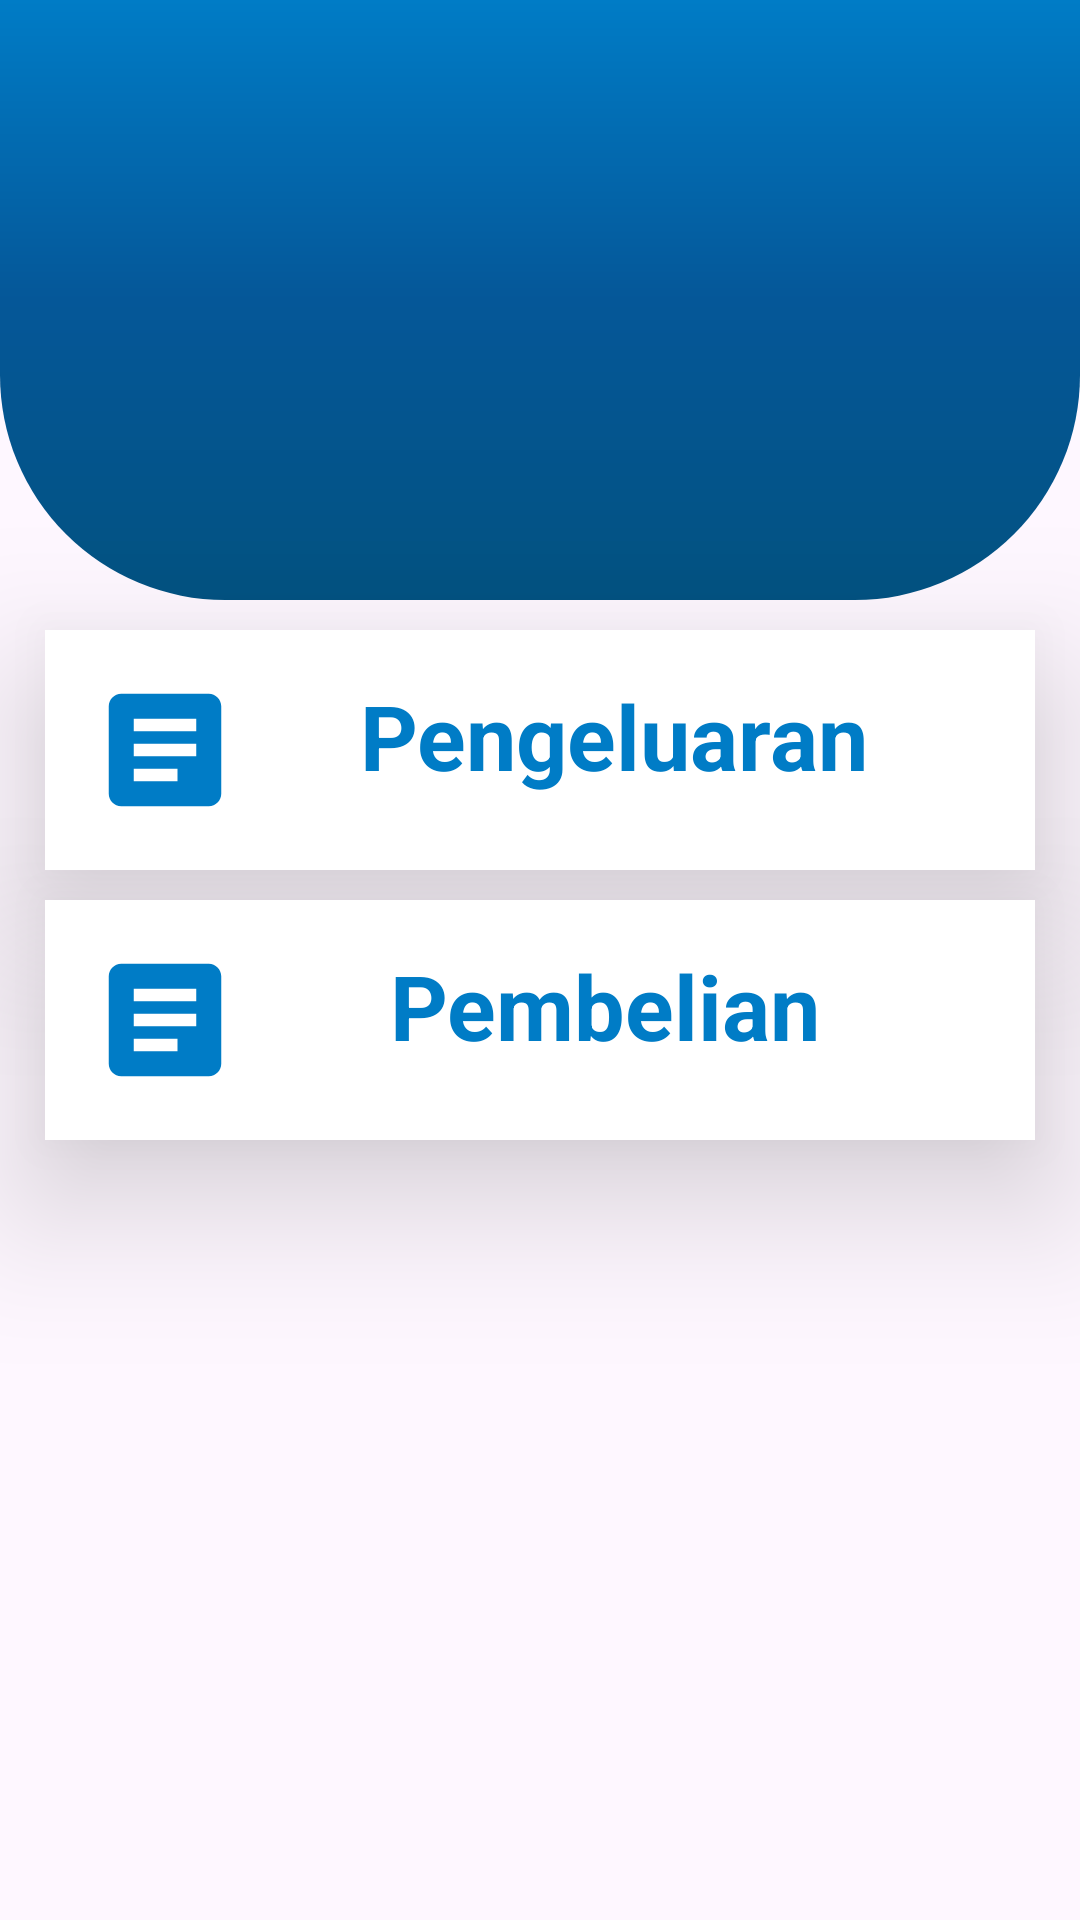

Icon bounding boxes for this 1080x1920 phone screenshot, format (left=x1, top=y1, right=x2, bottom=y2):
document: (left=108, top=693, right=222, bottom=807), (left=108, top=963, right=222, bottom=1077)
